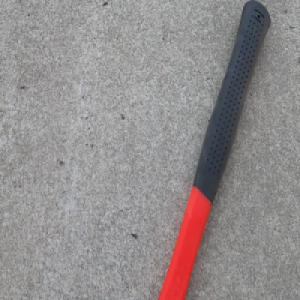Hammer: (157, 0, 272, 300)
